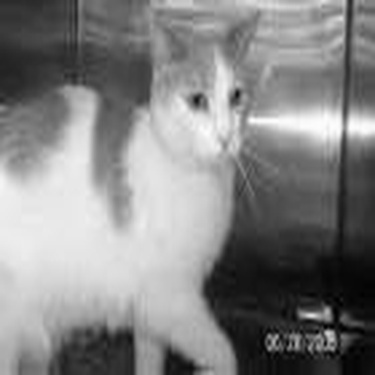cat: (3, 6, 261, 368)
